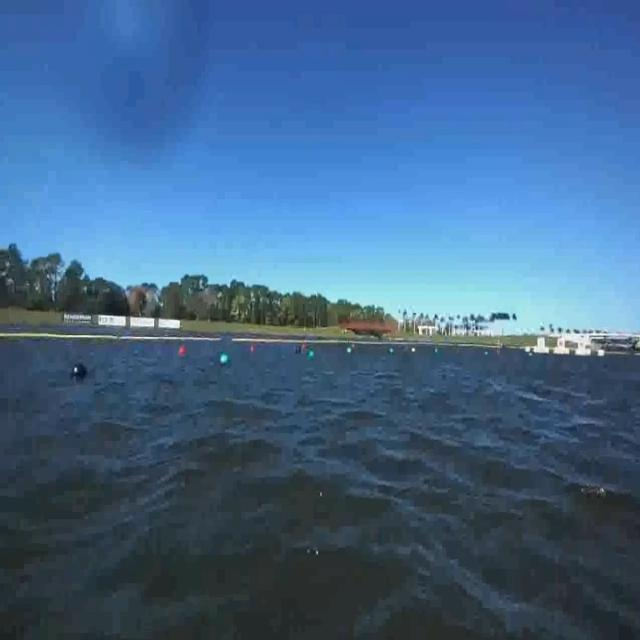black-buoy: (70, 361, 89, 380)
green-buoy: (220, 352, 229, 365)
red-buoy: (178, 343, 190, 356)
